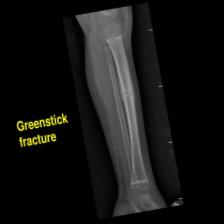greenstick-fracture: (67, 4, 168, 218)
